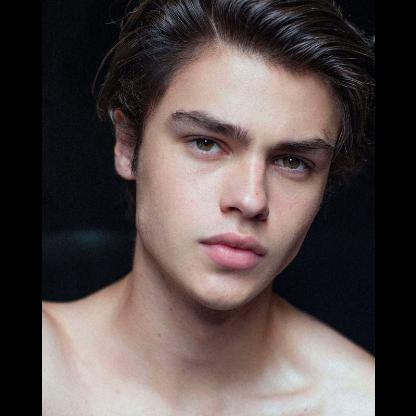Male: (112, 38, 342, 308)
